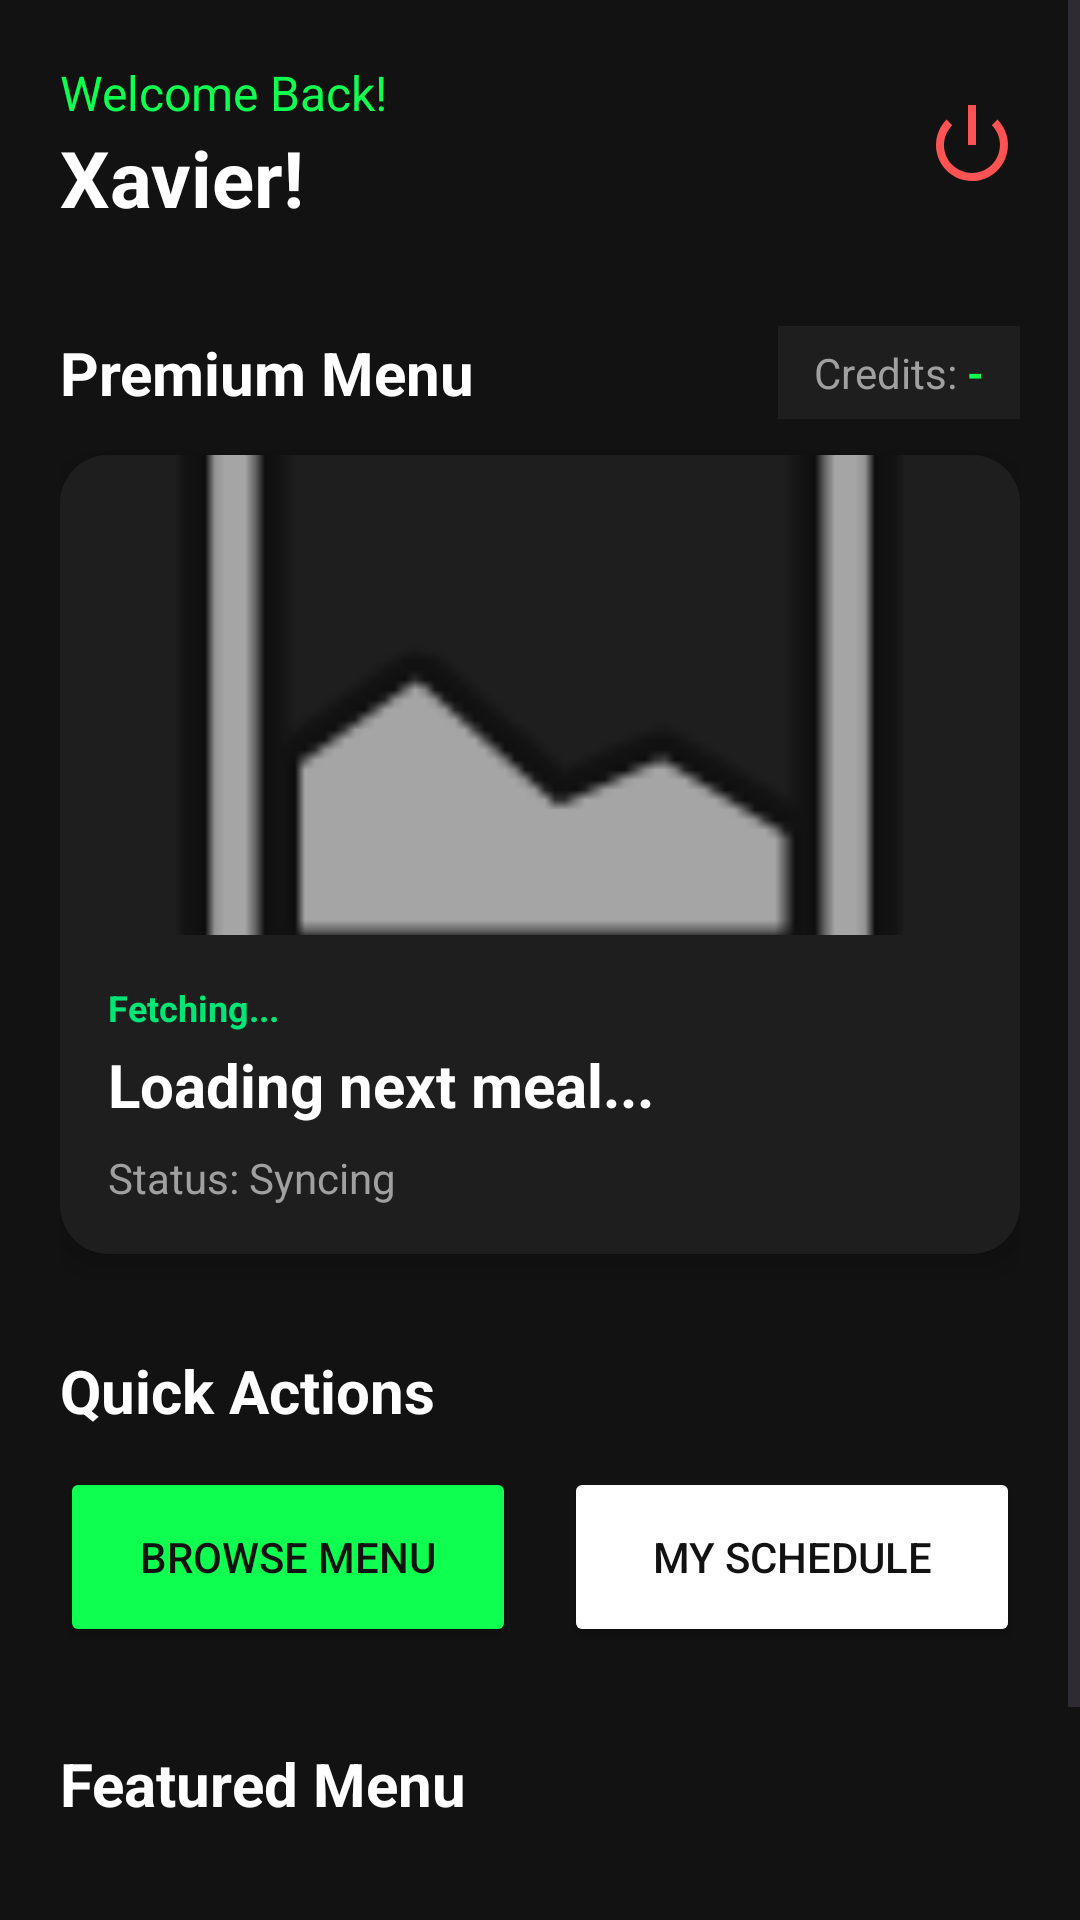

Named icons in this screenshot (1080w x 1920h) and their centers, point (x, y):
lock power off: point (972, 143)
